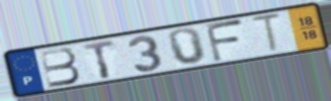0: (167, 26, 208, 67)
3: (126, 33, 164, 74)
B: (37, 46, 83, 89)
F: (203, 18, 247, 64)
T: (249, 11, 285, 55), (81, 39, 117, 81)
